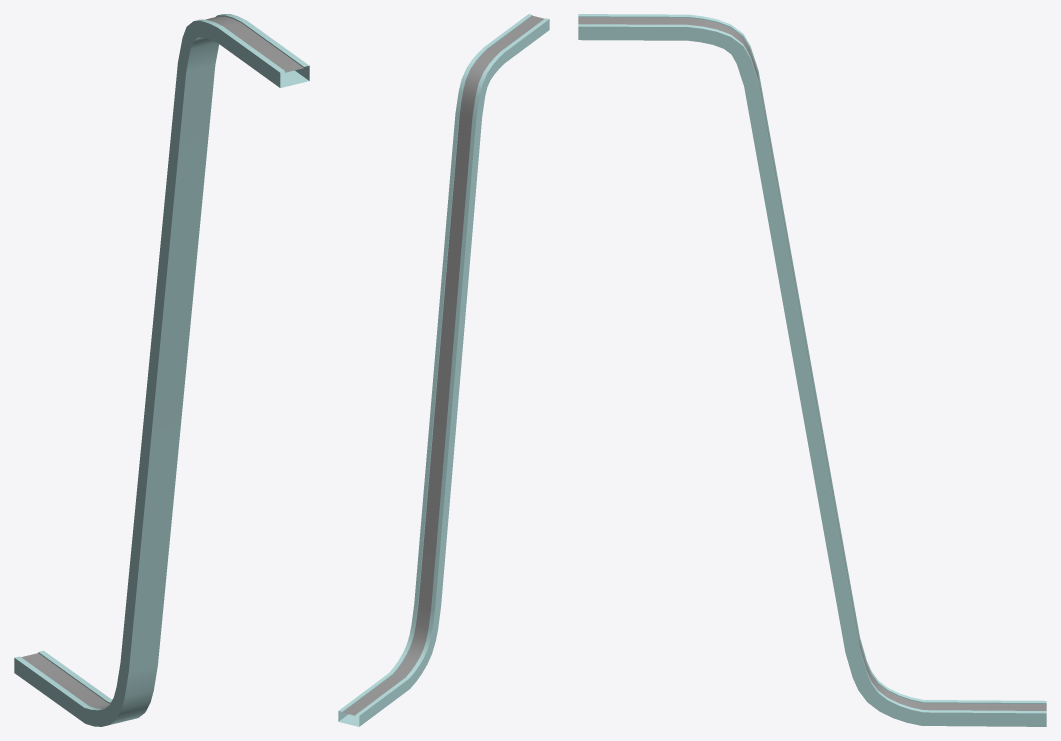
File: bigup.fbx
3 views of the same model, side by side, from view 1: azimuth 30°, elevation 25°; view 2: azimuth 150°, elevation 25°; view 3: azimuth 270°, elevation 25° (orthographic). The views are drawn at different scales.
Parts seen in each view (by area): view 1: bigup; view 2: bigup; view 3: bigup.
Part boxes in pixels (x1=…): bigup: x1=14, y1=14, x2=309, y2=726; bigup: x1=338, y1=14, x2=549, y2=726; bigup: x1=578, y1=14, x2=1046, y2=726.
Size of the model in its own units: 203 by 5291 by 3207.
